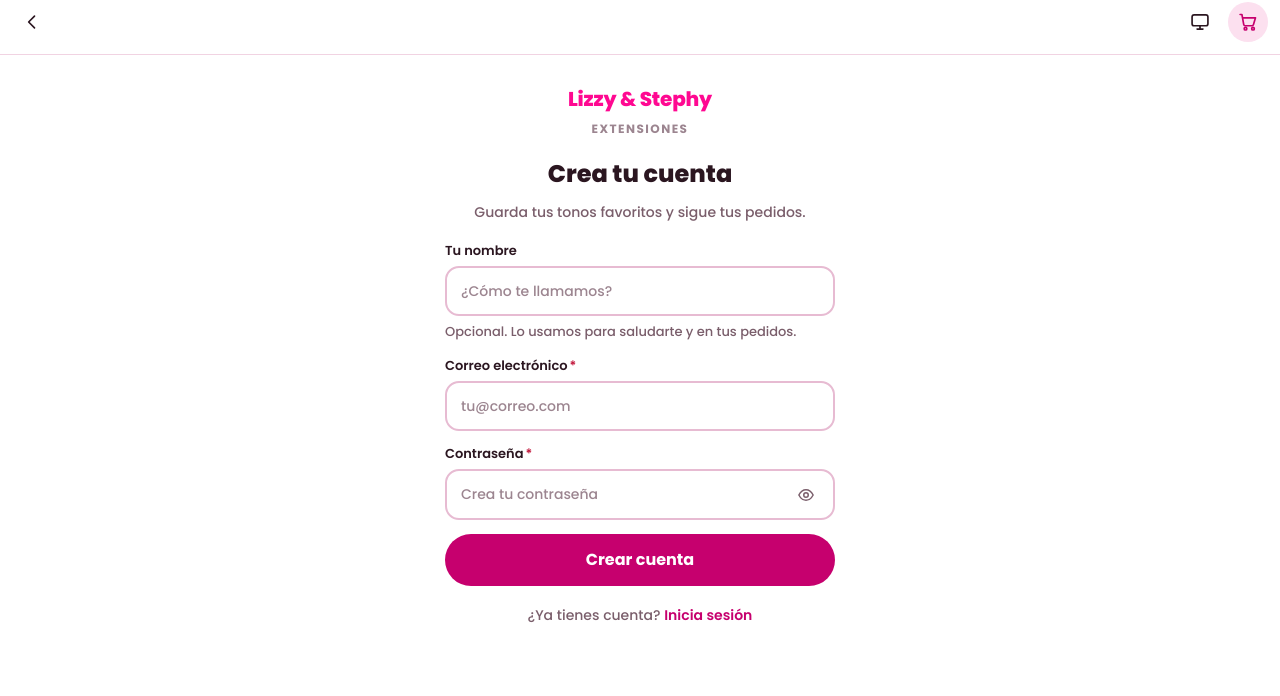
it: RegistroCliente · envío › error inline por contraseña débil y NO se pierde lo capturado (3.D)
Type "ana@example.com" into the field labelled "Correo electrónico*" at (640, 406), box [461, 383, 819, 429]
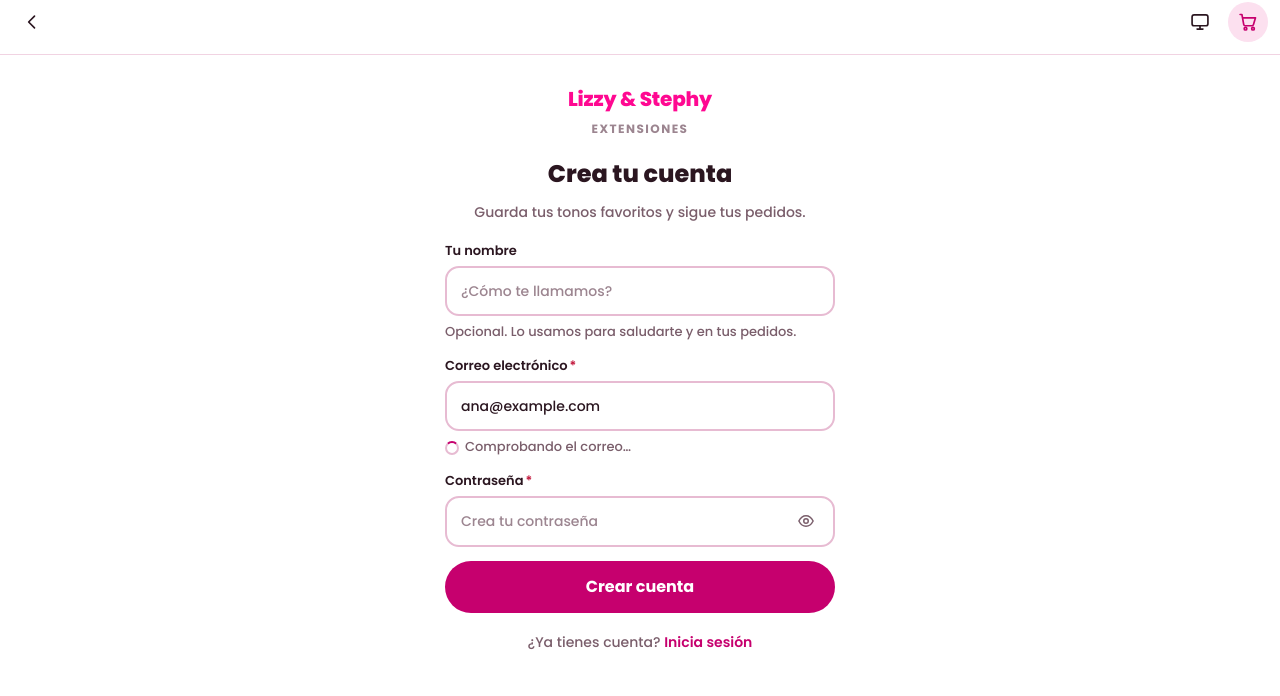
Type "hola123" into the password field labelled "Contraseña*" at (623, 521), box [461, 498, 785, 544]
(page scrolled)
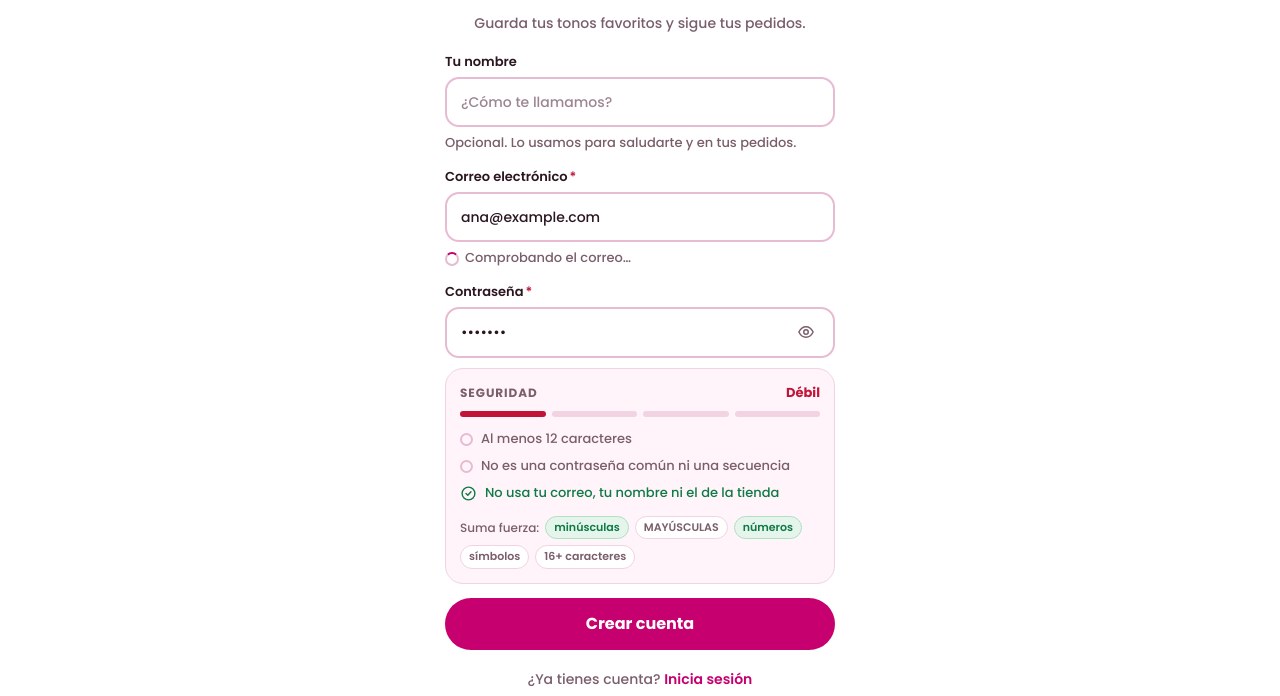
Click the button "Crear cuenta" at (640, 624), box [445, 598, 835, 650]
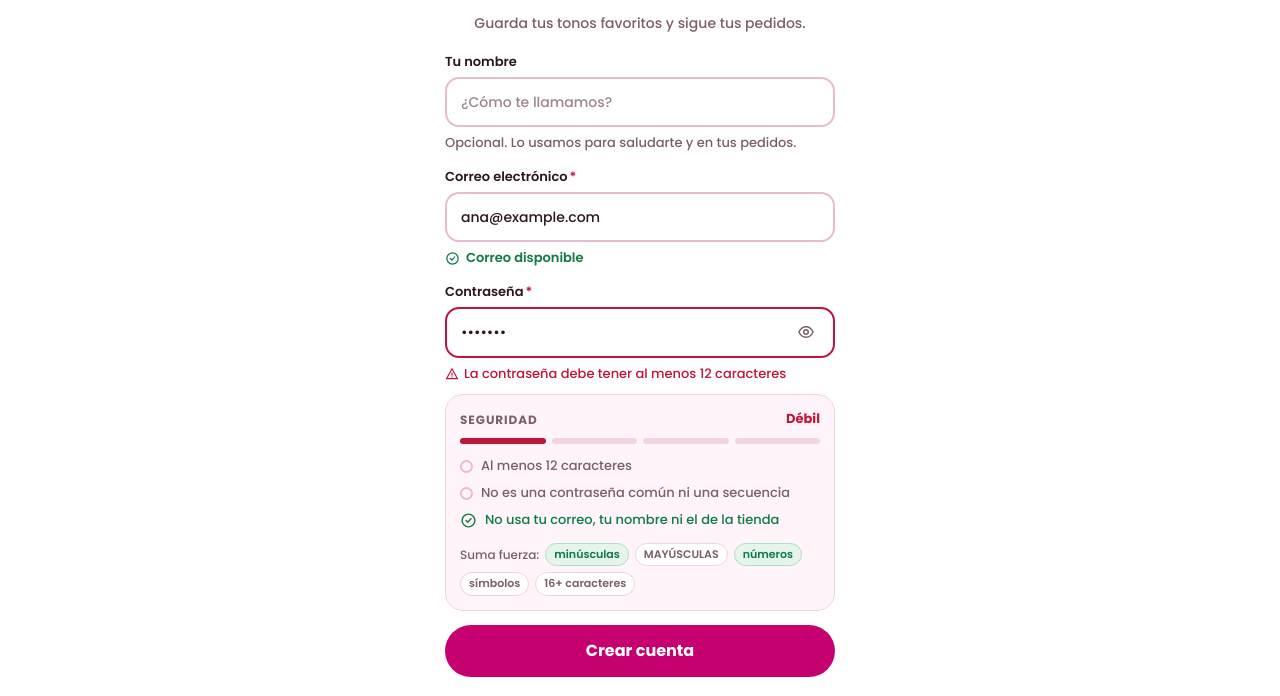
Check: the text "La contraseña debe tener al menos 12 caracteres" is shown, box [464, 364, 786, 384]
